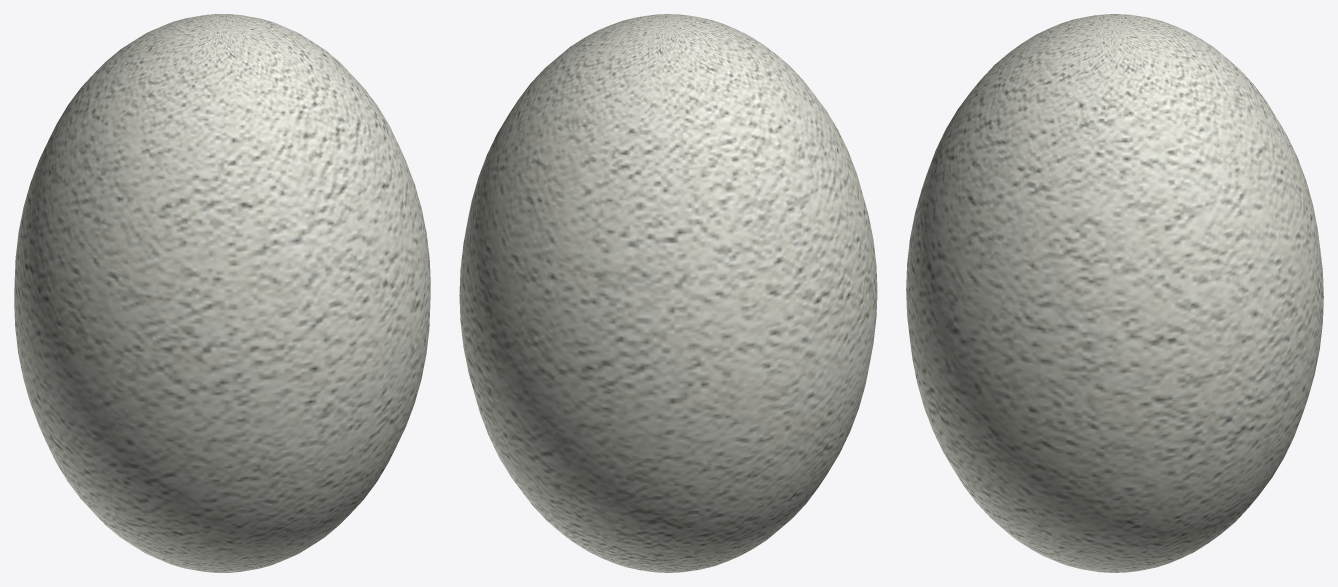
The model's file is dragoneggmodel.glb.
The picture shows the model from 3 angles, left to right: view 1: azimuth 30°, elevation 25°; view 2: azimuth 150°, elevation 25°; view 3: azimuth 270°, elevation 25°; orthographic projection.
Visible parts, largest first — view 1: Mesh_0; view 2: Mesh_0; view 3: Mesh_0.
Boxes of the visible parts, x1,y1,x2,y2 form: Mesh_0: (14,14,430,572); Mesh_0: (459,14,877,572); Mesh_0: (906,14,1323,572).
Bounding box in the file's own units: 2 × 2.8 × 2.
Materials: 1 (1 with a texture image).
